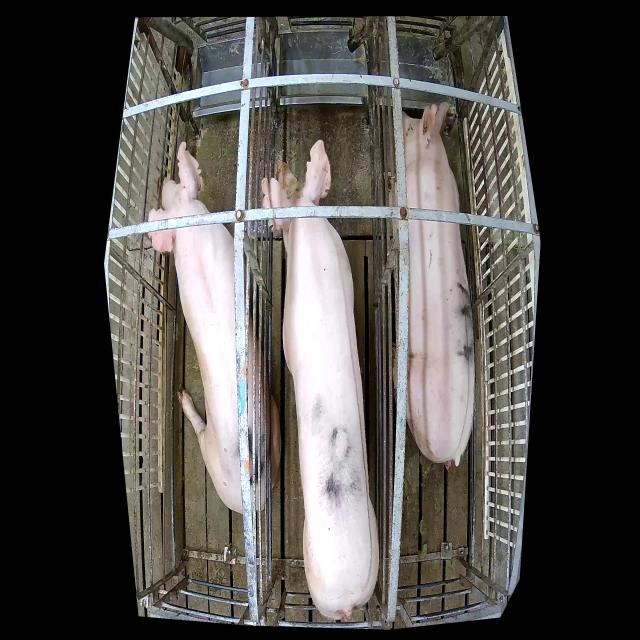pig: (262, 139, 379, 623), (146, 142, 280, 513), (402, 100, 475, 468)
